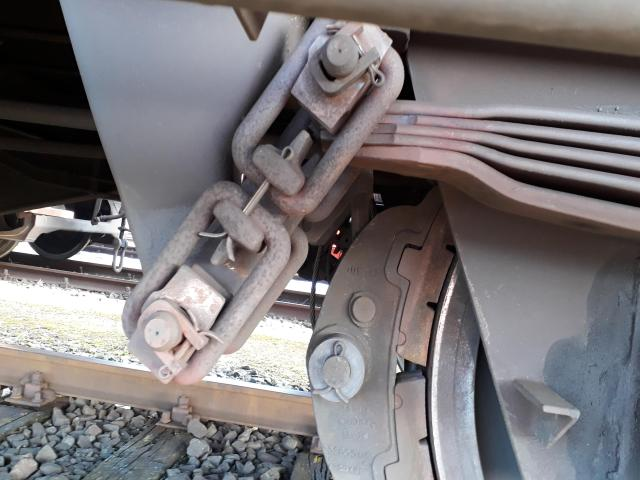blattfederww: (305, 68, 640, 216)
